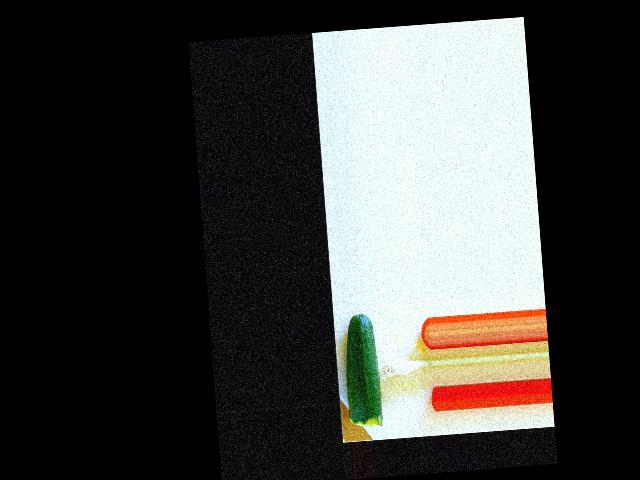cucumber: (341, 311, 382, 428)
